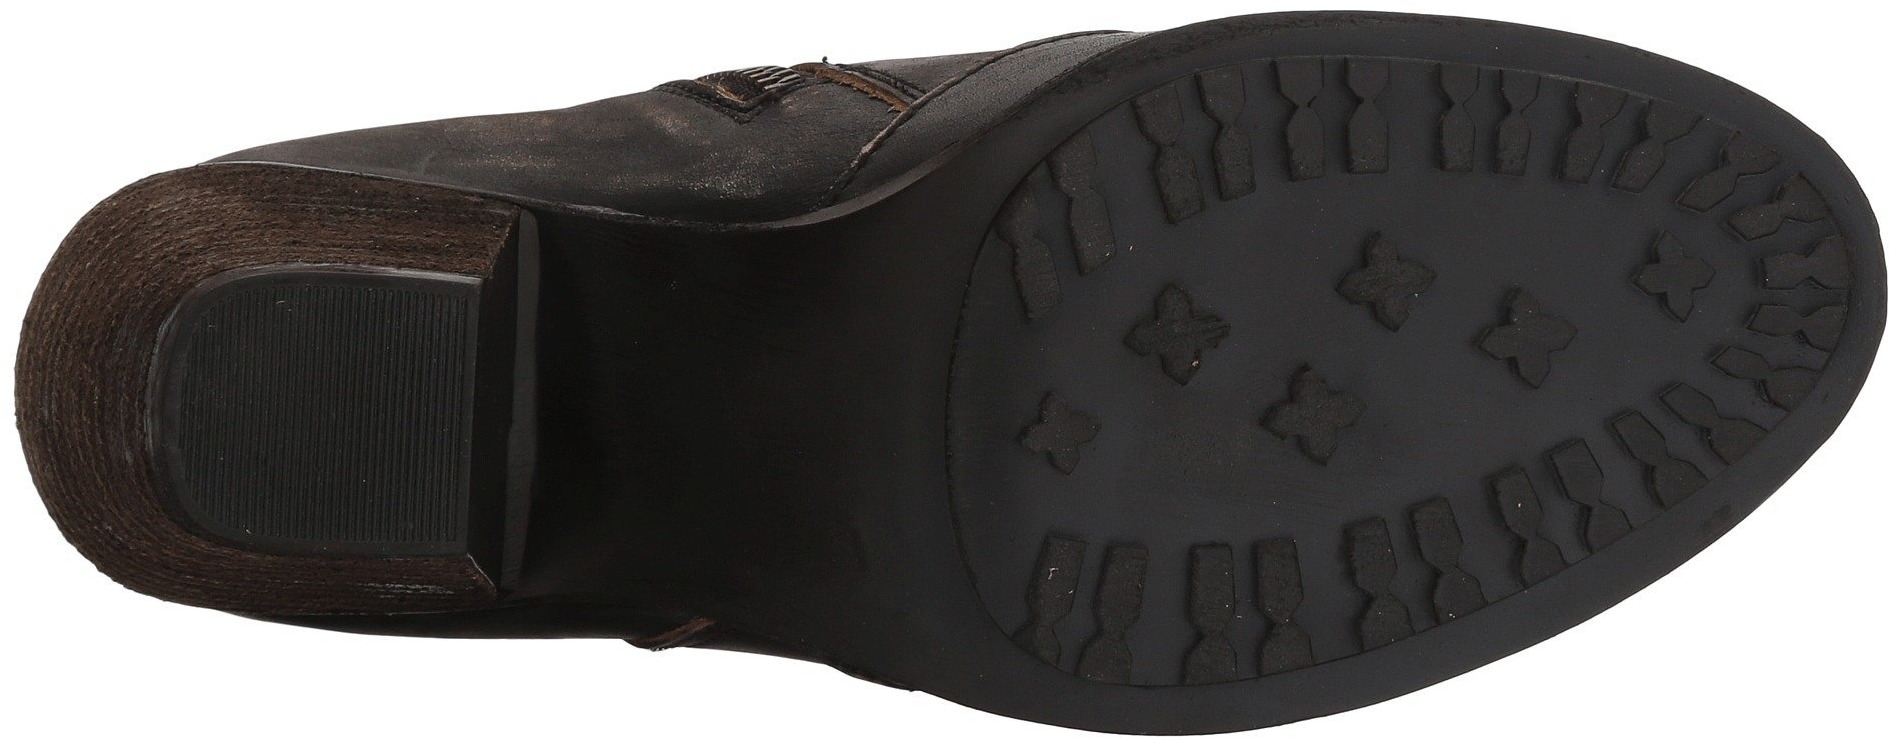bowtie: (1197, 30, 1405, 196), (1432, 55, 1607, 230), (1469, 430, 1637, 601), (1630, 83, 1775, 230), (1187, 529, 1323, 683)
other: (214, 305, 459, 550)
star: (1244, 353, 1385, 485), (1004, 367, 1140, 489), (1322, 228, 1448, 352), (1124, 281, 1238, 395), (1475, 282, 1585, 396), (1614, 234, 1701, 327)
